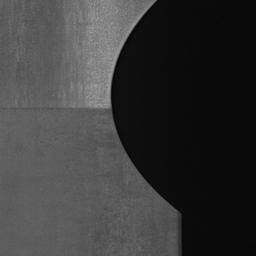Crescent gap: (111, 0, 179, 212)
